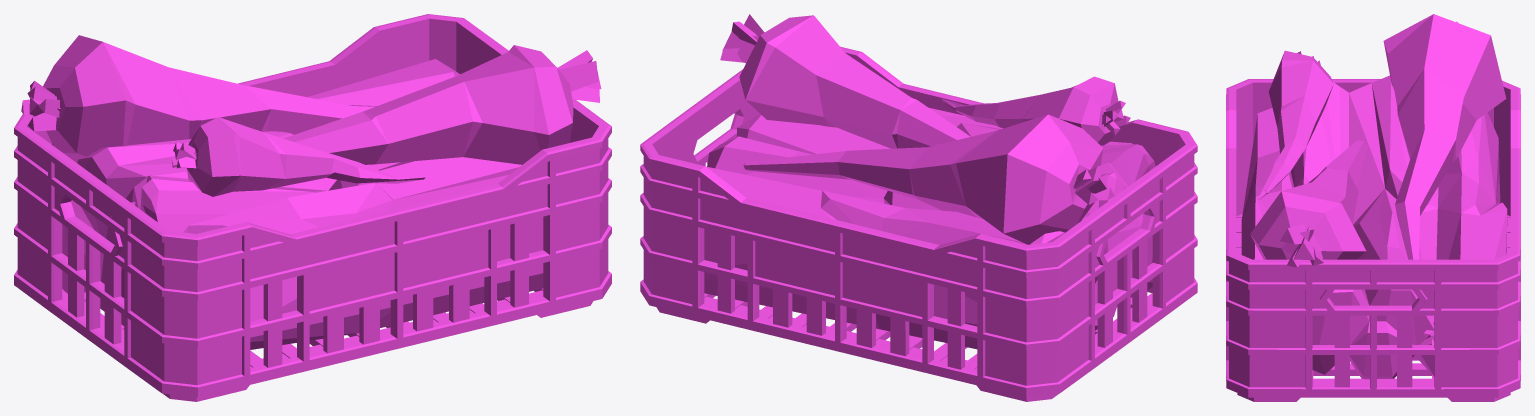
The model's file is SM_Crate_Plastic_Small_Parsnips.fbx.
3 views of the same model, side by side, from view 1: azimuth 30°, elevation 25°; view 2: azimuth 150°, elevation 25°; view 3: azimuth 270°, elevation 25° (orthographic). The views are drawn at different scales.
Visible parts, largest first — view 1: SM_Crate_Plastic_Small_Parsnips; view 2: SM_Crate_Plastic_Small_Parsnips; view 3: SM_Crate_Plastic_Small_Parsnips.
Boxes of the visible parts, x1,y1,x2,y2 form: SM_Crate_Plastic_Small_Parsnips: (14, 14, 611, 401); SM_Crate_Plastic_Small_Parsnips: (640, 14, 1197, 401); SM_Crate_Plastic_Small_Parsnips: (1226, 14, 1520, 401).
Bounding box in the file's own units: 0.6623 × 0.348 × 0.4083.
